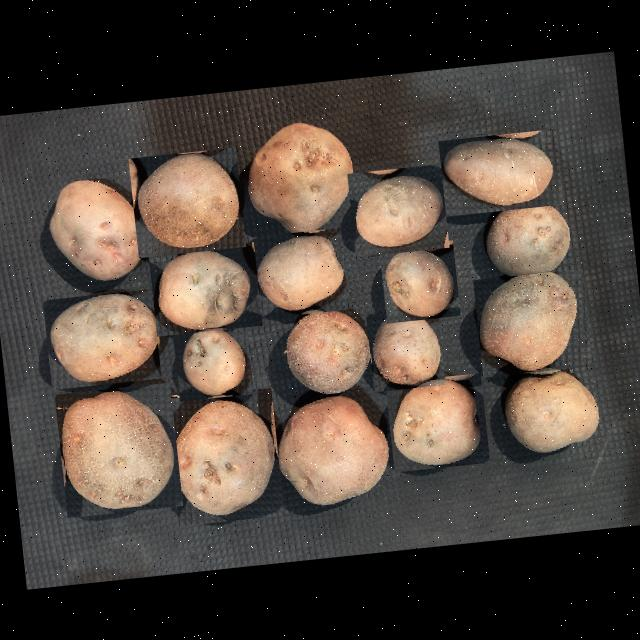Diseased-fungal potato: (54, 382, 182, 518), (166, 388, 284, 526), (239, 116, 361, 242), (270, 396, 396, 514), (472, 268, 592, 378), (128, 147, 246, 258), (41, 165, 148, 287), (42, 288, 162, 389), (438, 128, 563, 216), (148, 242, 262, 336), (385, 372, 490, 472), (496, 366, 610, 458), (274, 304, 375, 402), (347, 164, 449, 257), (479, 192, 582, 282), (249, 228, 349, 318), (378, 240, 461, 323), (366, 306, 446, 392), (172, 322, 253, 401)
